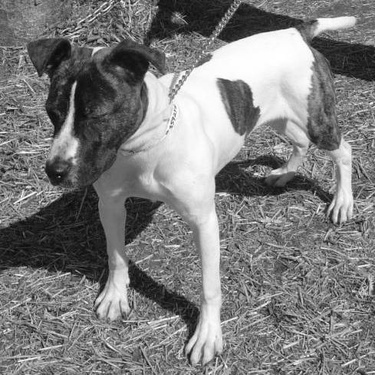dog: (20, 6, 359, 369)
